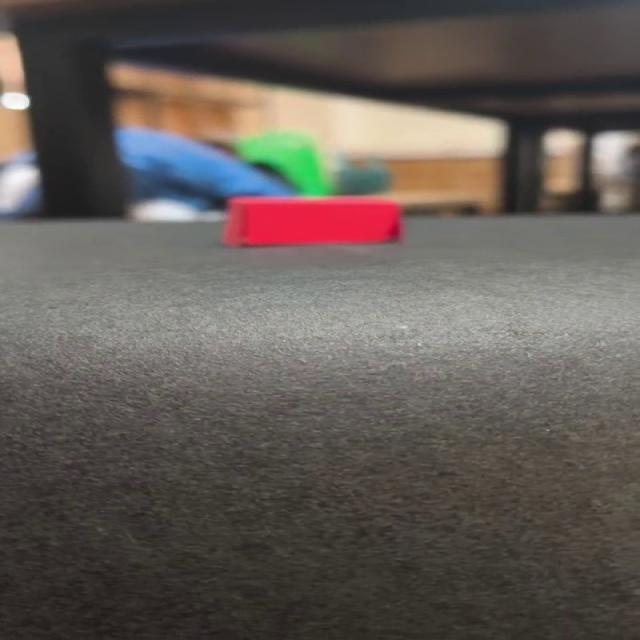red block: (221, 194, 404, 247)
